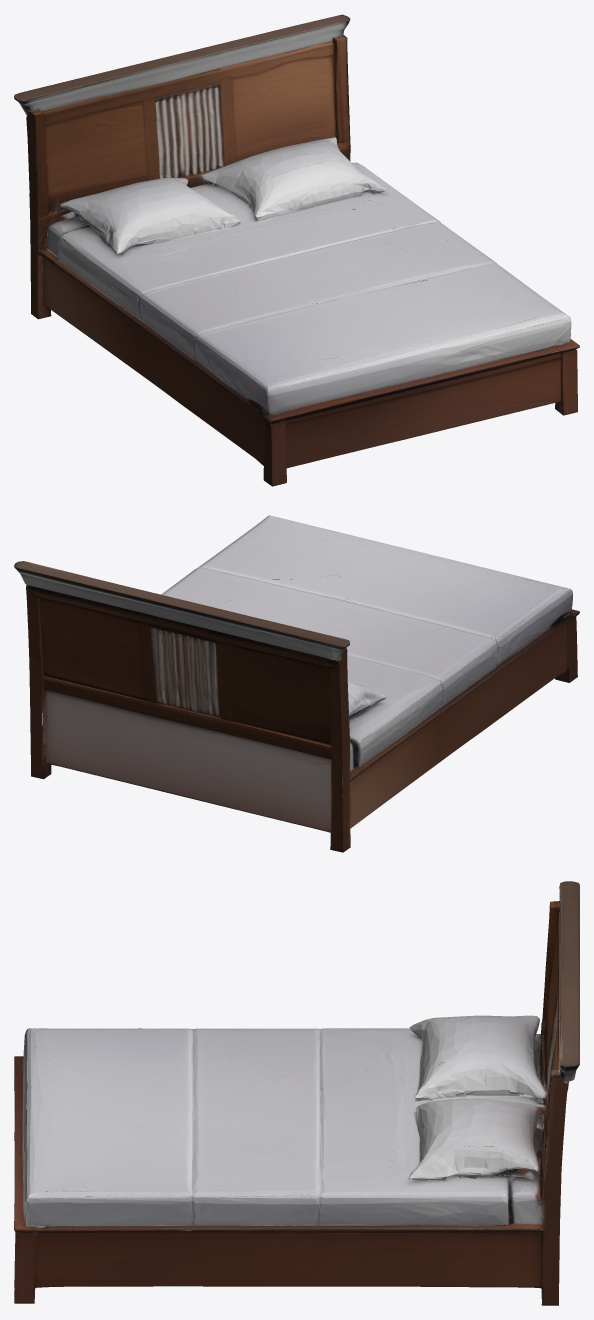
Rendered from bed-trellis.glb.
3 views of the same model, one above another, from view 1: azimuth 30°, elevation 25°; view 2: azimuth 150°, elevation 25°; view 3: azimuth 270°, elevation 25° (orthographic). The views are drawn at different scales.
Visible parts, largest first — view 1: geometry_0; view 2: geometry_0; view 3: geometry_0.
Boxes of the visible parts, x1=… form: geometry_0: x1=14, y1=14, x2=579, y2=486; geometry_0: x1=14, y1=515, x2=579, y2=852; geometry_0: x1=14, y1=881, x2=579, y2=1305.
Size of the model in its own units: 0.7773 by 0.4799 by 1.
Materials: 1 (1 with a texture image).
